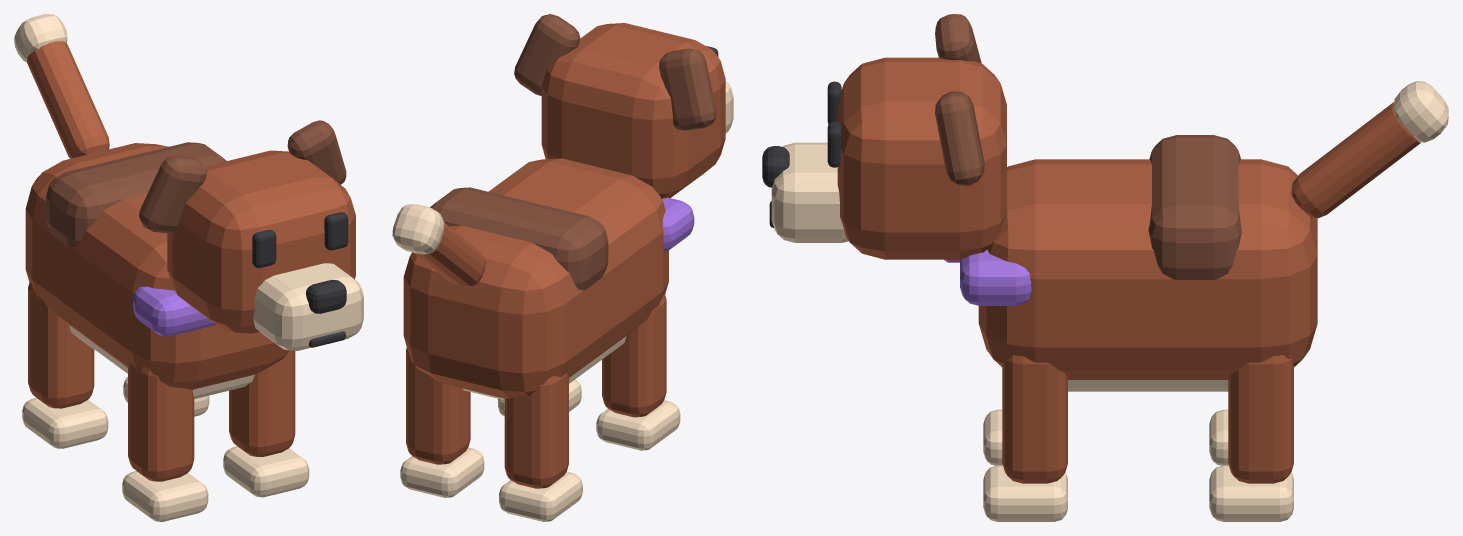
The model's file is dog.glb.
3 renders of one model, left to right at view 1: azimuth 30°, elevation 25°; view 2: azimuth 150°, elevation 25°; view 3: azimuth 270°, elevation 25°, orthographic. The views are drawn at different scales.
Parts seen in each view (by area): view 1: head, body, leg-fr, leg-br, leg-fl, tail; view 2: body, head, leg-br, leg-fr, leg-bl, tail, leg-fl; view 3: body, head, leg-fl, leg-bl, tail, leg-br, leg-fr.
Part boxes in pixels (x1=…): head: x1=139, y1=120, x2=363, y2=350; body: x1=25, y1=142, x2=288, y2=398; leg-fr: x1=122, y1=363, x2=208, y2=521; leg-br: x1=22, y1=281, x2=108, y2=448; leg-fl: x1=223, y1=350, x2=309, y2=497; tail: x1=14, y1=14, x2=109, y2=158; body: x1=403, y1=158, x2=694, y2=400; head: x1=514, y1=14, x2=733, y2=198; leg-br: x1=499, y1=373, x2=582, y2=521; leg-fr: x1=596, y1=293, x2=680, y2=450; leg-bl: x1=400, y1=347, x2=484, y2=497; tail: x1=392, y1=204, x2=485, y2=286; leg-fl: x1=498, y1=379, x2=581, y2=416; body: x1=960, y1=135, x2=1317, y2=391; head: x1=762, y1=14, x2=1006, y2=259; leg-fl: x1=983, y1=355, x2=1067, y2=521; leg-bl: x1=1209, y1=355, x2=1293, y2=521; tail: x1=1291, y1=81, x2=1448, y2=218; leg-br: x1=1209, y1=409, x2=1228, y2=465; leg-fr: x1=983, y1=409, x2=1002, y2=465.
Size of the model in its own units: 0.28 by 0.5013 by 0.7293.
1 material, 1 textured.
